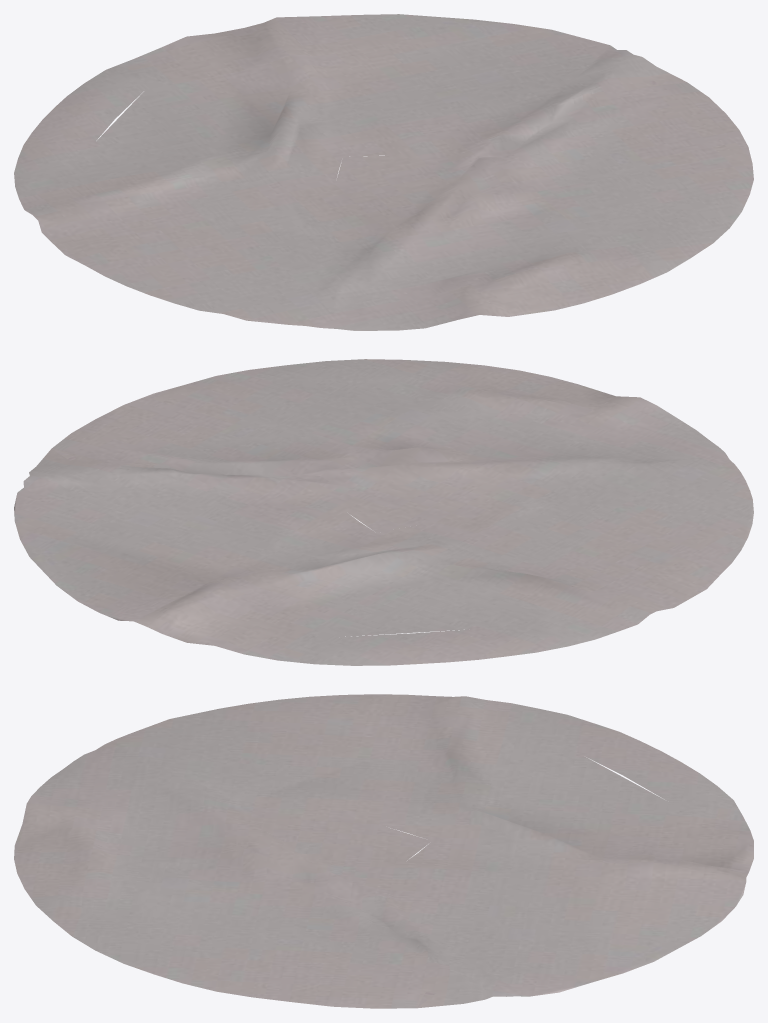
Rendered from Carpet0028.obj.
3 views of the same model, one above another, from view 1: azimuth 30°, elevation 25°; view 2: azimuth 150°, elevation 25°; view 3: azimuth 270°, elevation 25° (orthographic).
Bounding box in the file's own units: 2.11 × 0.045 × 2.09.
Materials: 1 (1 with a texture image).
